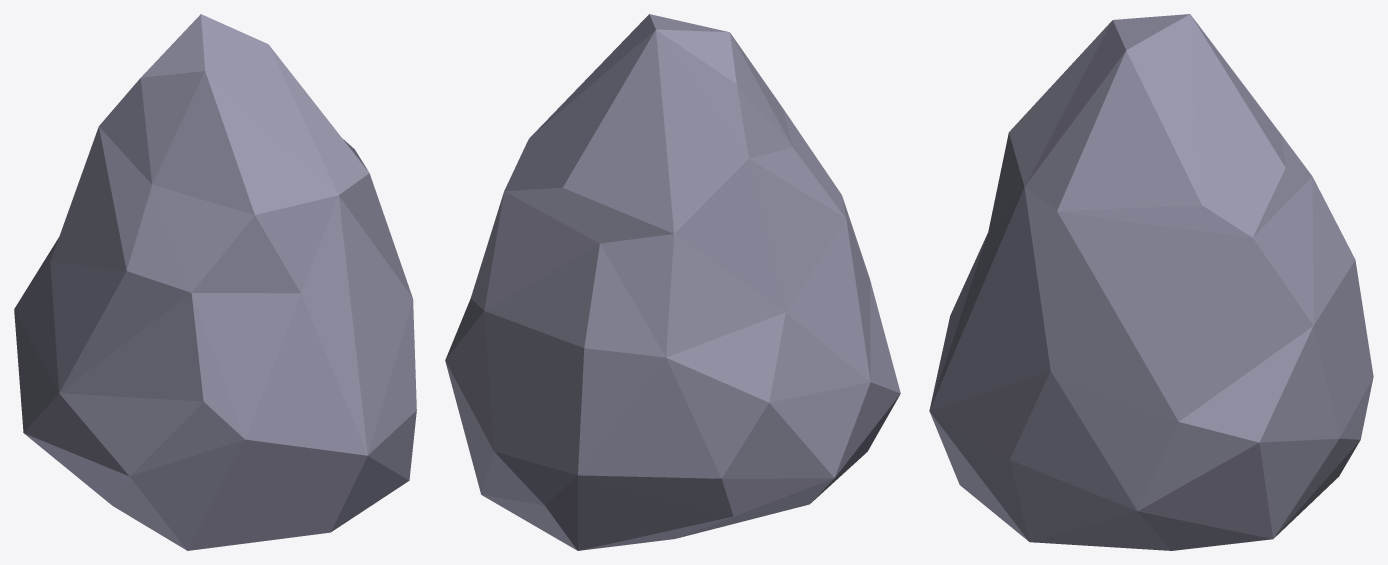
Rendered from big_rock.glb.
The picture shows the model from 3 angles, left to right: view 1: azimuth 30°, elevation 25°; view 2: azimuth 150°, elevation 25°; view 3: azimuth 270°, elevation 25°; orthographic projection. The views are drawn at different scales.
Visible parts, largest first — view 1: Rock; view 2: Rock; view 3: Rock.
Part boxes in pixels (<box>): Rock: <box>14,14,416,550</box>; Rock: <box>445,14,900,550</box>; Rock: <box>929,14,1373,550</box>.
Bounding box in the file's own units: 1.55 × 1.85 × 1.61.
